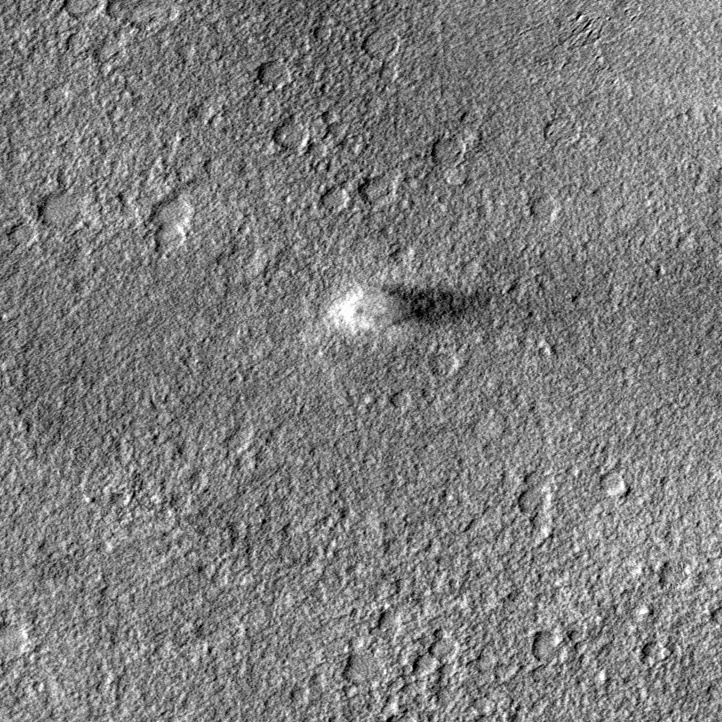dust_devil: (326, 280, 495, 340)
